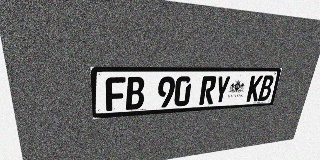0: (174, 76, 192, 107)
9: (157, 76, 176, 108)
B: (126, 77, 145, 110), (258, 75, 275, 101)
F: (105, 77, 125, 111)
K: (246, 75, 263, 102)
R: (199, 76, 217, 105)
Y: (213, 76, 231, 104)
